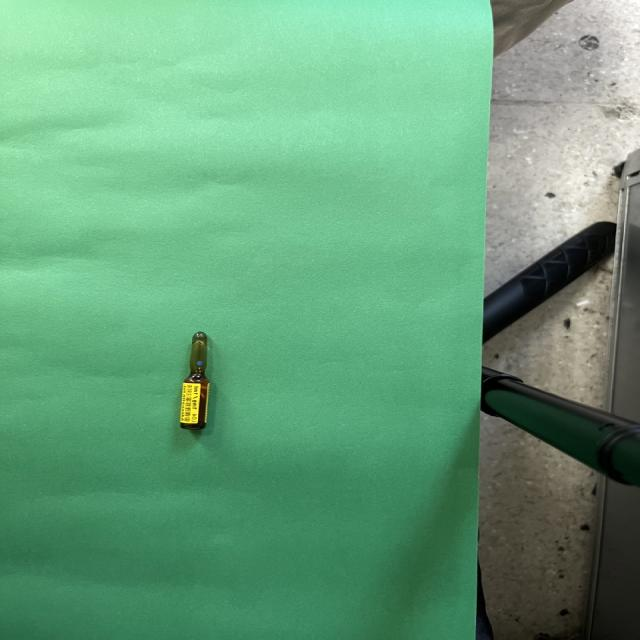Ampoules: (180, 331, 210, 430)
